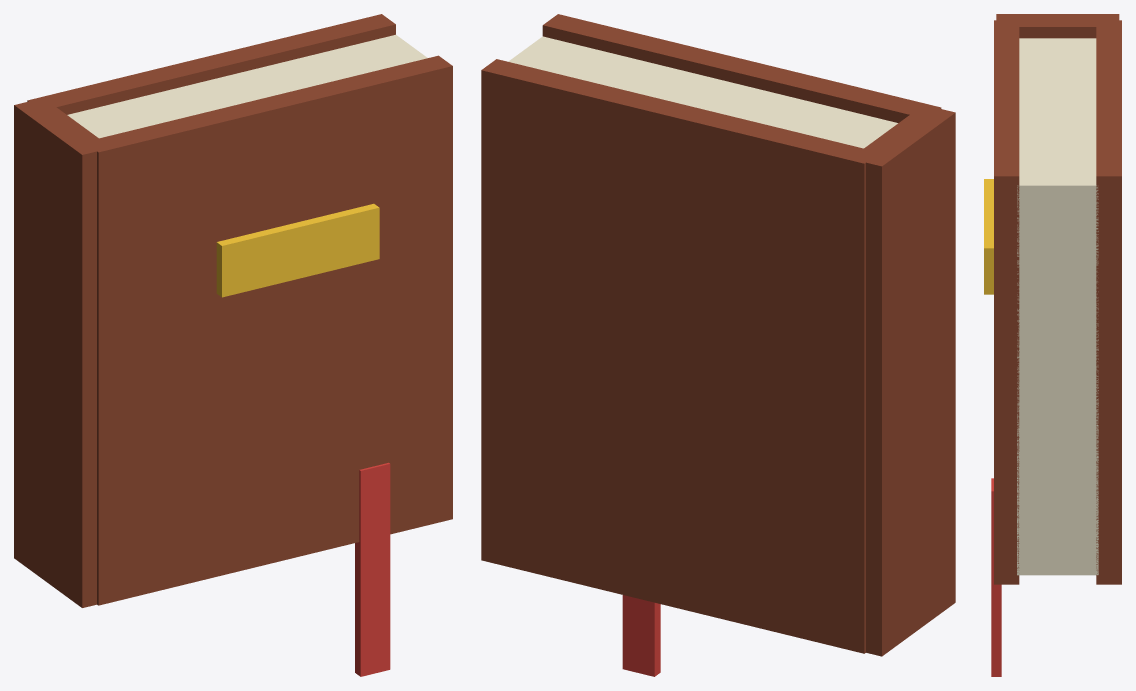
Rendered from journal.obj.
3 renders of one model, left to right at view 1: azimuth 30°, elevation 25°; view 2: azimuth 150°, elevation 25°; view 3: azimuth 270°, elevation 25°, orthographic. The views are drawn at different scales.
Visible parts, largest first — view 1: item; view 2: item; view 3: item.
Boxes of the visible parts, x1=… form: item: x1=14, y1=14, x2=452, y2=676; item: x1=481, y1=14, x2=955, y2=676; item: x1=984, y1=14, x2=1121, y2=676.
Size of the model in its own units: 0.375 by 0.57 by 0.1345.
